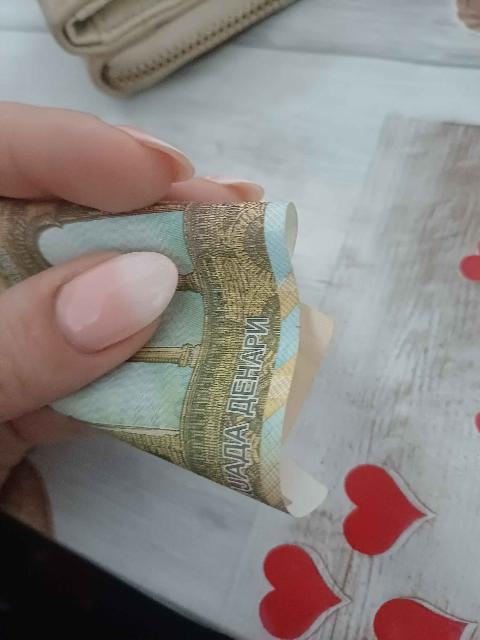note: (0, 199, 331, 515)
